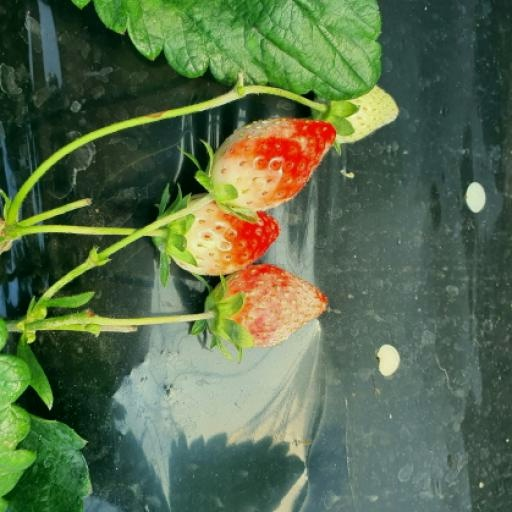Powdery Mildew Fruit: (175, 300, 305, 395), (182, 163, 309, 249)
